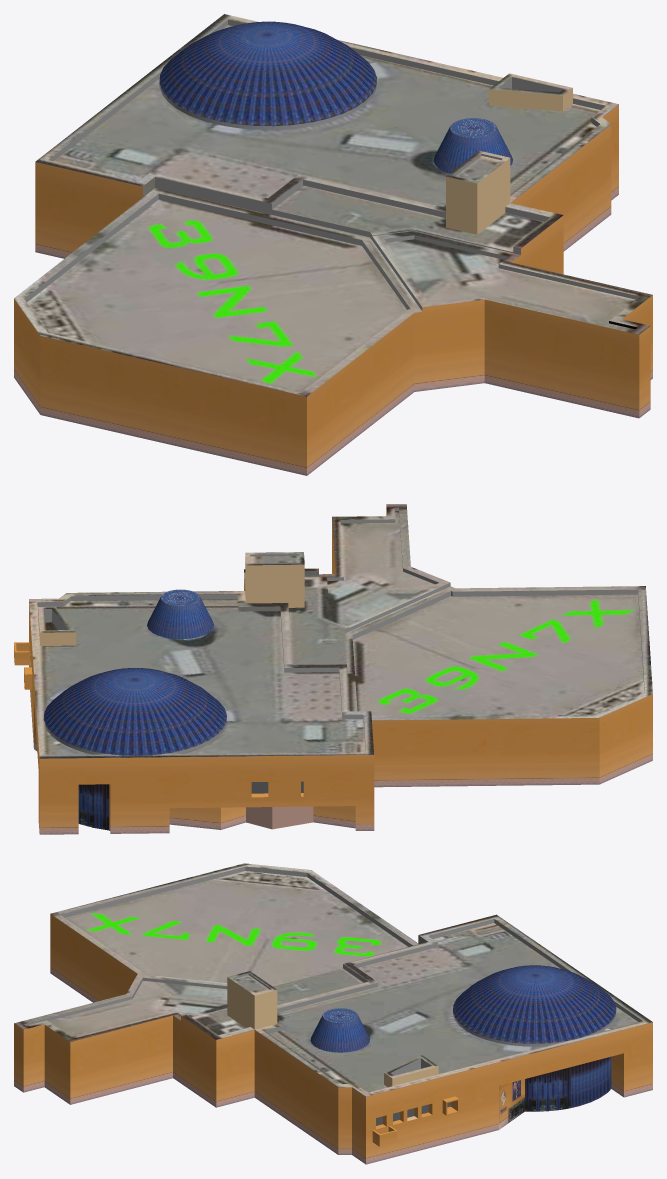
Rendered from tech3.glb.
3 views of the same model, one above another, from view 1: azimuth 30°, elevation 25°; view 2: azimuth 150°, elevation 25°; view 3: azimuth 270°, elevation 25° (orthographic). The views are drawn at different scales.
Parts seen in each view (by area): view 1: SketchUp.001, SketchUp.010, SketchUp.041, SketchUp.037, SketchUp.030, SketchUp.014, SketchUp.011, SketchUp.045, SketchUp.040, SketchUp.023, SketchUp.020, SketchUp.038 (+5 smaller); view 2: SketchUp.001, SketchUp.010, SketchUp.041, SketchUp.037, SketchUp.030, SketchUp.014, SketchUp.011, SketchUp.045, SketchUp.023, SketchUp.038, SketchUp.020, SketchUp.005 (+6 smaller); view 3: SketchUp.001, SketchUp.010, SketchUp.041, SketchUp.037, SketchUp.030, SketchUp.014, SketchUp.008, SketchUp.011, SketchUp.023, SketchUp.045, SketchUp.020, SketchUp.015 (+5 smaller).
Part boxes in pixels (x1=…): SketchUp.001: x1=14, y1=104, x2=652, y2=475; SketchUp.010: x1=27, y1=199, x2=406, y2=390; SketchUp.041: x1=54, y1=25, x2=600, y2=207; SketchUp.037: x1=159, y1=21, x2=376, y2=126; SketchUp.030: x1=14, y1=14, x2=618, y2=396; SketchUp.014: x1=387, y1=239, x2=637, y2=329; SketchUp.011: x1=272, y1=185, x2=562, y2=251; SketchUp.045: x1=372, y1=231, x2=652, y2=334; SketchUp.040: x1=155, y1=177, x2=520, y2=310; SketchUp.023: x1=446, y1=158, x2=510, y2=234; SketchUp.020: x1=24, y1=193, x2=410, y2=309; SketchUp.038: x1=433, y1=126, x2=512, y2=173; SketchUp.001: x1=29, y1=505, x2=652, y2=834; SketchUp.010: x1=352, y1=594, x2=644, y2=716; SketchUp.041: x1=37, y1=599, x2=365, y2=754; SketchUp.037: x1=43, y1=668, x2=226, y2=755; SketchUp.030: x1=29, y1=586, x2=652, y2=758; SketchUp.014: x1=327, y1=511, x2=434, y2=622; SketchUp.011: x1=244, y1=568, x2=348, y2=664; SketchUp.045: x1=319, y1=504, x2=450, y2=627; SketchUp.023: x1=245, y1=556, x2=304, y2=607; SketchUp.038: x1=147, y1=597, x2=213, y2=639; SketchUp.020: x1=352, y1=589, x2=644, y2=692; SketchUp.005: x1=78, y1=784, x2=108, y2=830; SketchUp.001: x1=14, y1=914, x2=652, y2=1164; SketchUp.010: x1=65, y1=871, x2=408, y2=986; SketchUp.041: x1=269, y1=923, x2=638, y2=1092; SketchUp.037: x1=453, y1=965, x2=616, y2=1043; SketchUp.030: x1=50, y1=863, x2=652, y2=1096; SketchUp.014: x1=48, y1=980, x2=227, y2=1037; SketchUp.008: x1=525, y1=1056, x2=611, y2=1111; SketchUp.011: x1=181, y1=968, x2=363, y2=1039; SketchUp.023: x1=227, y1=977, x2=277, y2=1029; SketchUp.045: x1=14, y1=974, x2=227, y2=1041; SketchUp.020: x1=60, y1=866, x2=412, y2=946; SketchUp.015: x1=277, y1=919, x2=642, y2=1021.
Bounding box in the file's own units: 120 × 23.21 × 132.
12 materials, 8 textured.
